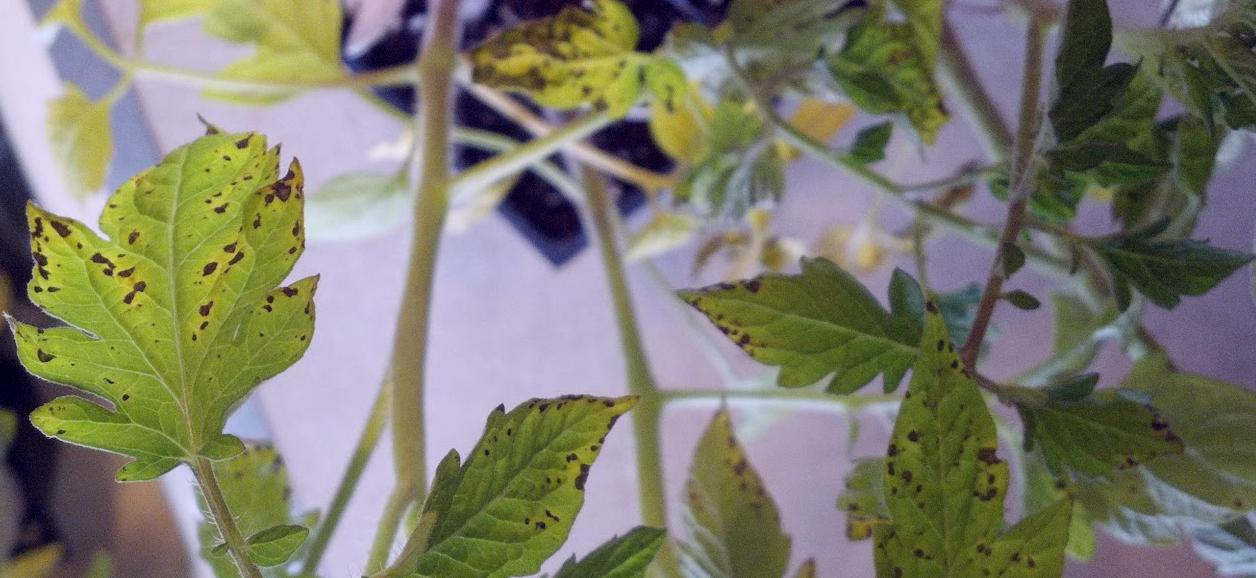Tomato Septoria leaf spot: (9, 79, 331, 457), (848, 275, 1084, 578), (345, 387, 664, 578), (662, 228, 969, 398), (452, 0, 662, 132)
